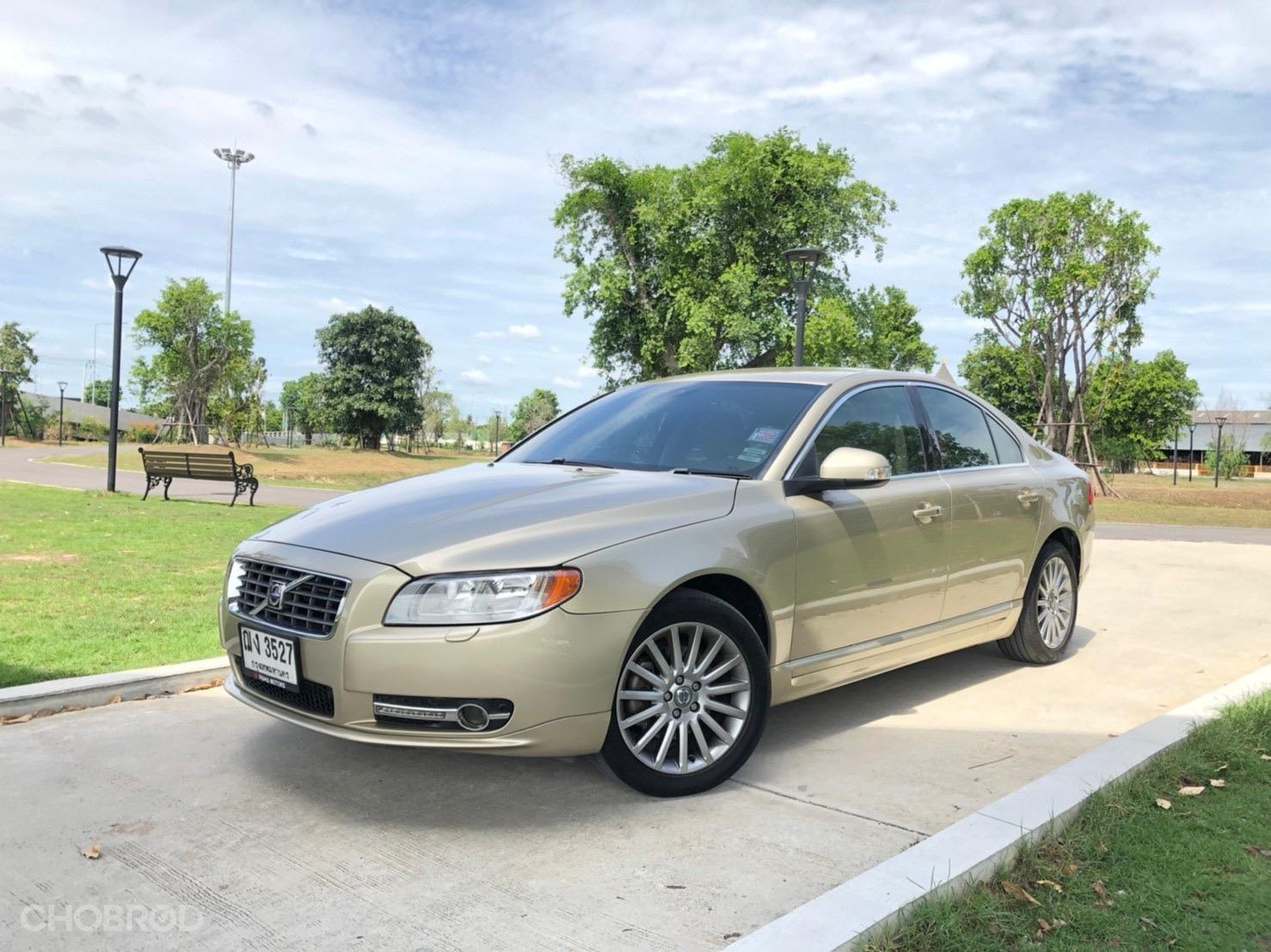license-plate: (236, 617, 303, 695)
